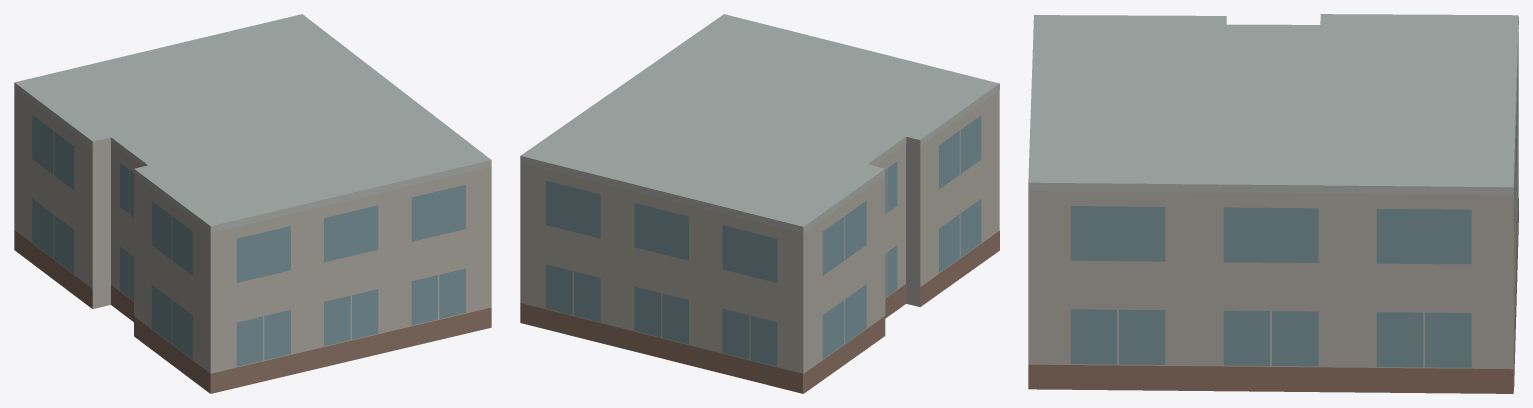
File: survey-upis-32837906.glb
3 views of the same model, side by side, from view 1: azimuth 30°, elevation 25°; view 2: azimuth 150°, elevation 25°; view 3: azimuth 270°, elevation 25° (orthographic). The views are drawn at different scales.
Visible parts, largest first — view 1: survey-upis-32837906.tmp; view 2: survey-upis-32837906.tmp; view 3: survey-upis-32837906.tmp.
Part boxes in pixels (x1,y1,x2,y2): survey-upis-32837906.tmp: (14, 14, 491, 393); survey-upis-32837906.tmp: (520, 14, 999, 393); survey-upis-32837906.tmp: (1028, 14, 1518, 393).
Bounding box in the file's own units: 10.98 × 6.1 × 13.13.
